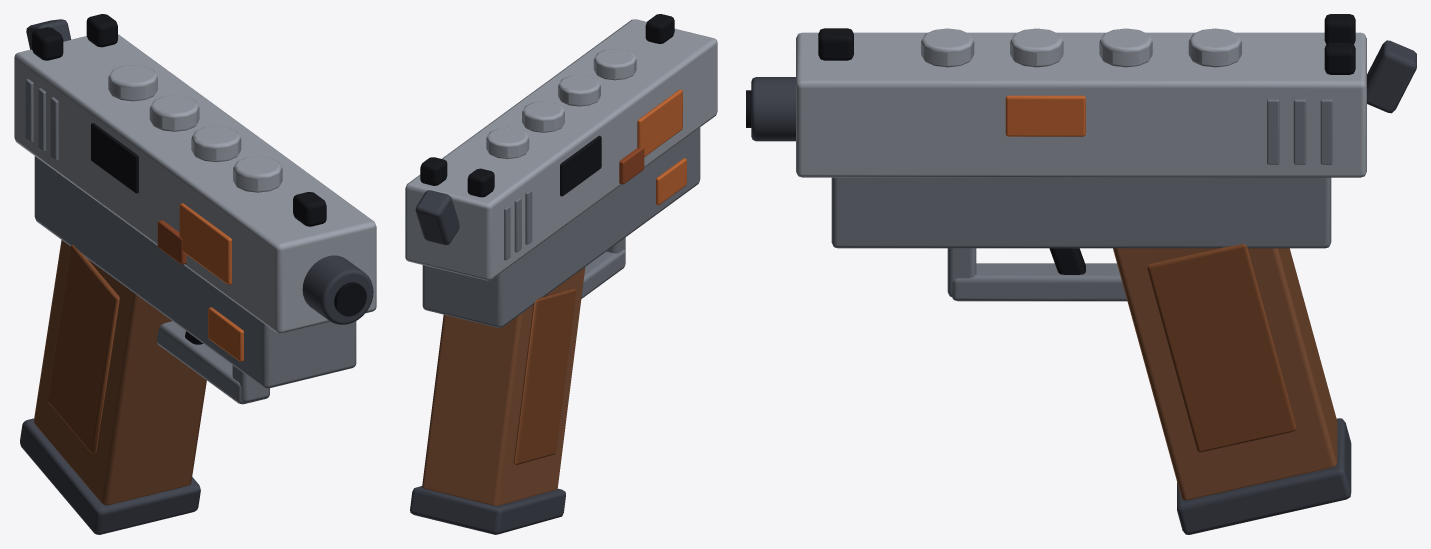
The model's file is Pistol.fbx.
The picture shows the model from 3 angles, left to right: view 1: azimuth 30°, elevation 25°; view 2: azimuth 150°, elevation 25°; view 3: azimuth 270°, elevation 25°; orthographic projection. The views are drawn at different scales.
Parts seen in each view (by area): view 1: Pistol_SmoothPlastic, Pistol_Plastic, Pistol_Metal; view 2: Pistol_SmoothPlastic, Pistol_Plastic, Pistol_Metal; view 3: Pistol_SmoothPlastic, Pistol_Plastic, Pistol_Metal.
Boxes of the visible parts, x1,y1,x2,y2 form: Pistol_SmoothPlastic: (14,14,376,404); Pistol_Plastic: (34,203,243,505); Pistol_Metal: (20,19,373,534); Pistol_SmoothPlastic: (405,14,717,327); Pistol_Plastic: (422,89,686,505); Pistol_Metal: (410,190,565,534); Pistol_SmoothPlastic: (746,14,1366,301); Pistol_Plastic: (1005,95,1337,500); Pistol_Metal: (751,40,1416,534).
Bounding box in the file's own units: 0.305 × 1.18 × 1.5.
3 materials, 3 textured.
